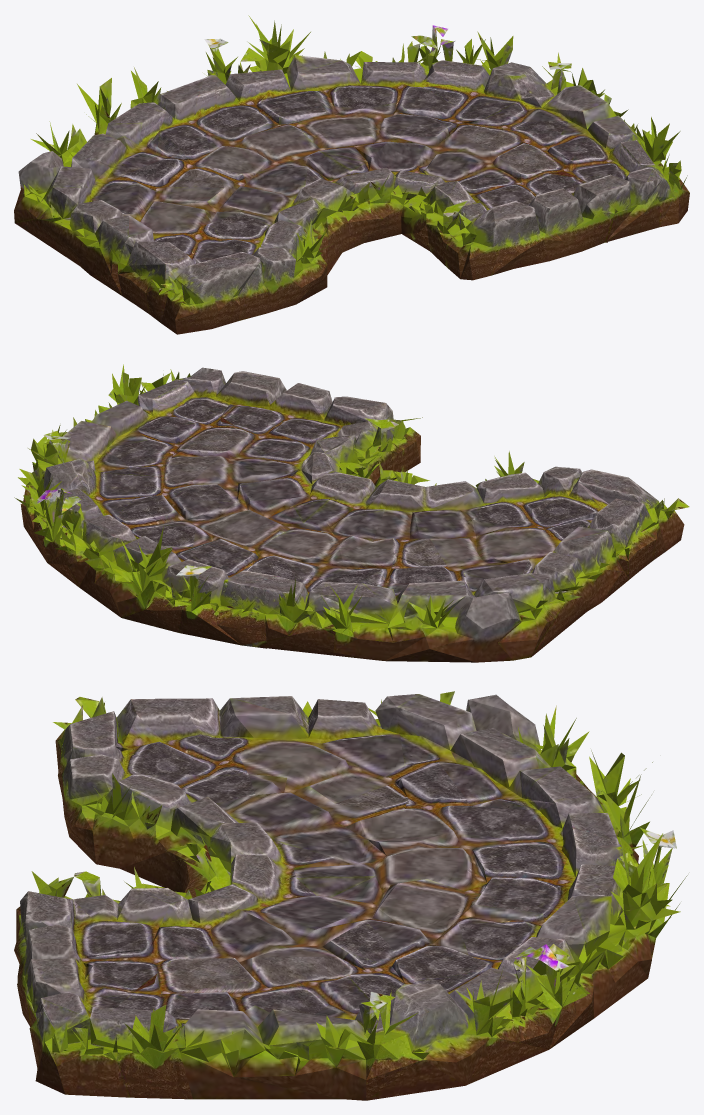
The model's file is path_curved.glb.
3 renders of one model, top to bottom at view 1: azimuth 30°, elevation 25°; view 2: azimuth 150°, elevation 25°; view 3: azimuth 270°, elevation 25°, orthographic. The views are drawn at different scales.
Visible parts, largest first — view 1: output_unwrapped; view 2: output_unwrapped; view 3: output_unwrapped.
Boxes of the visible parts, x1,y1,x2,y2 form: output_unwrapped: [14, 15, 689, 334]; output_unwrapped: [14, 364, 689, 662]; output_unwrapped: [14, 691, 687, 1100].
Bounding box in the file's own units: 1.87 × 0.2993 × 1.49.
1 material, 1 textured.
